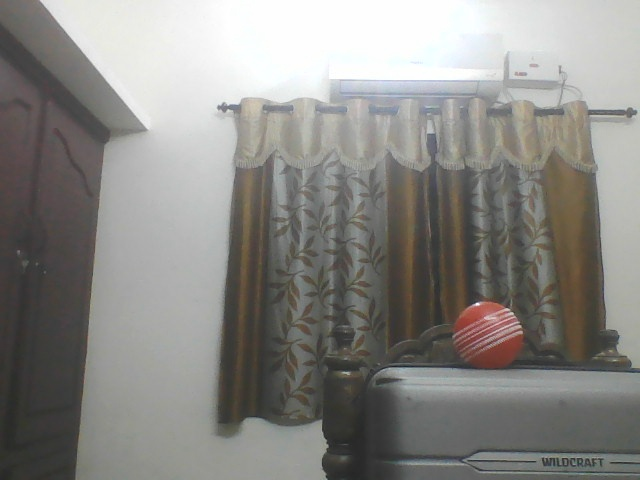cricket_ball: (446, 296, 531, 370)
